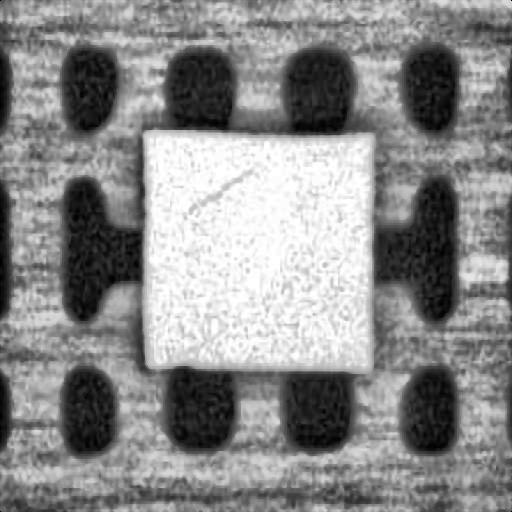DIE_CRACK: (184, 162, 257, 210)
